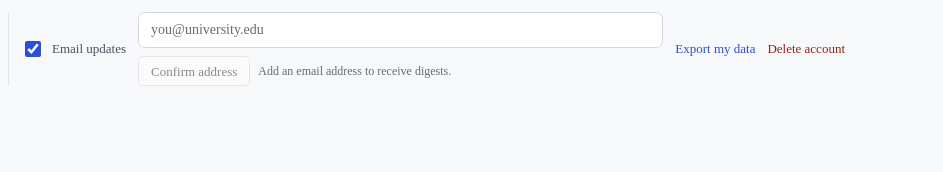
Test: digest contact-email field (gated behind the Email-updates toggle) › saving an address POSTs it and flips the status to pending
Step 1. Type "me@lab.example" into the field named "Send digests to" → (401, 30), box 138,12 -> 663,48
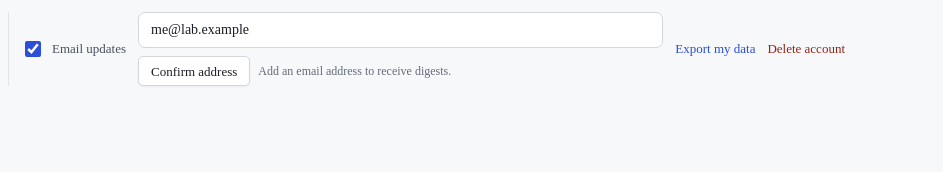
Step 2. Click the button "Confirm address" → click(194, 71), box 138,56 -> 250,86
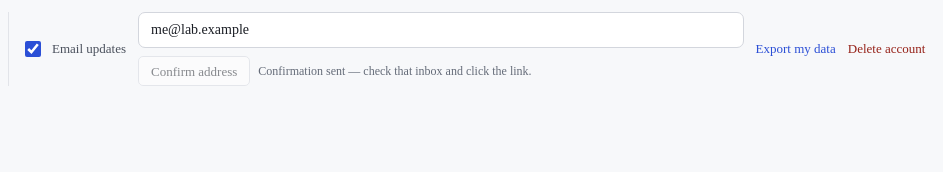
expect the text "Confirmation sent — check that inbox and click the link." is shown: met, box 258,62 -> 532,80
